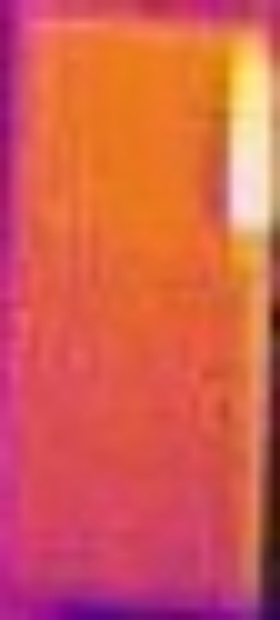Diode: (220, 20, 280, 282)
